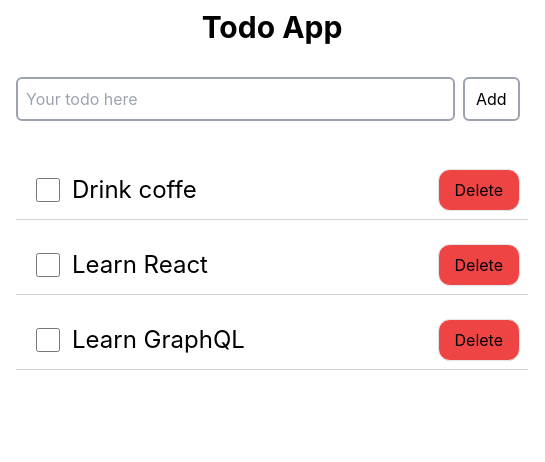
Scenario: Home › deletes a todo
This screenshot has width=545, height=462.
Type "Prep a project" into the field with placeholder "Your todo here" at point(235, 99), box [16,77,455,121]
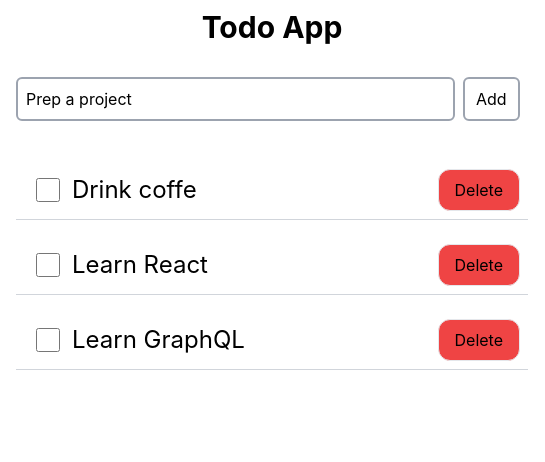
Click the button "Add" at point(491, 99), box [463,77,520,121]
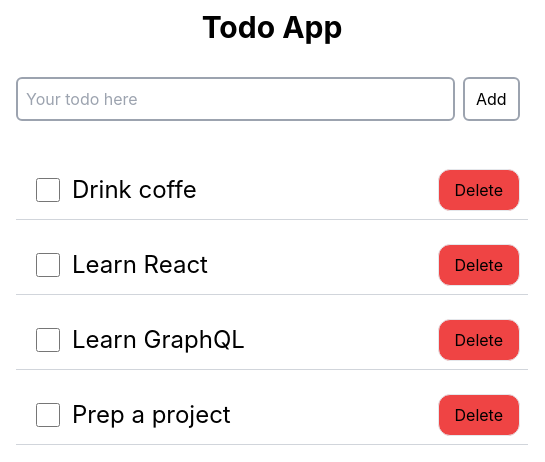
expect the text "Prep a project" is shown: met, box [72,399,231,431]
Click the button "Delete" in the row of "Prep a project" at point(479, 415), box [438,394,520,436]
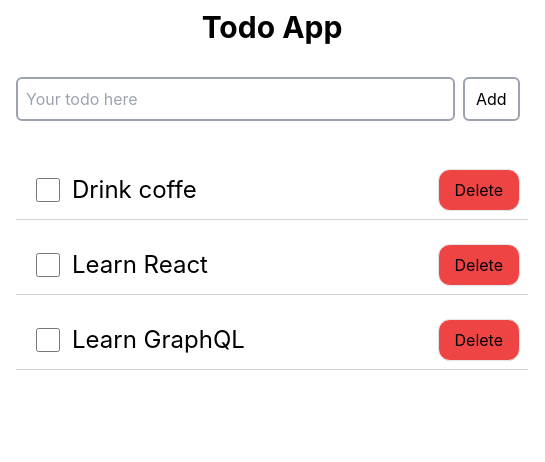
expect the text "Prep a project" is gone: met
